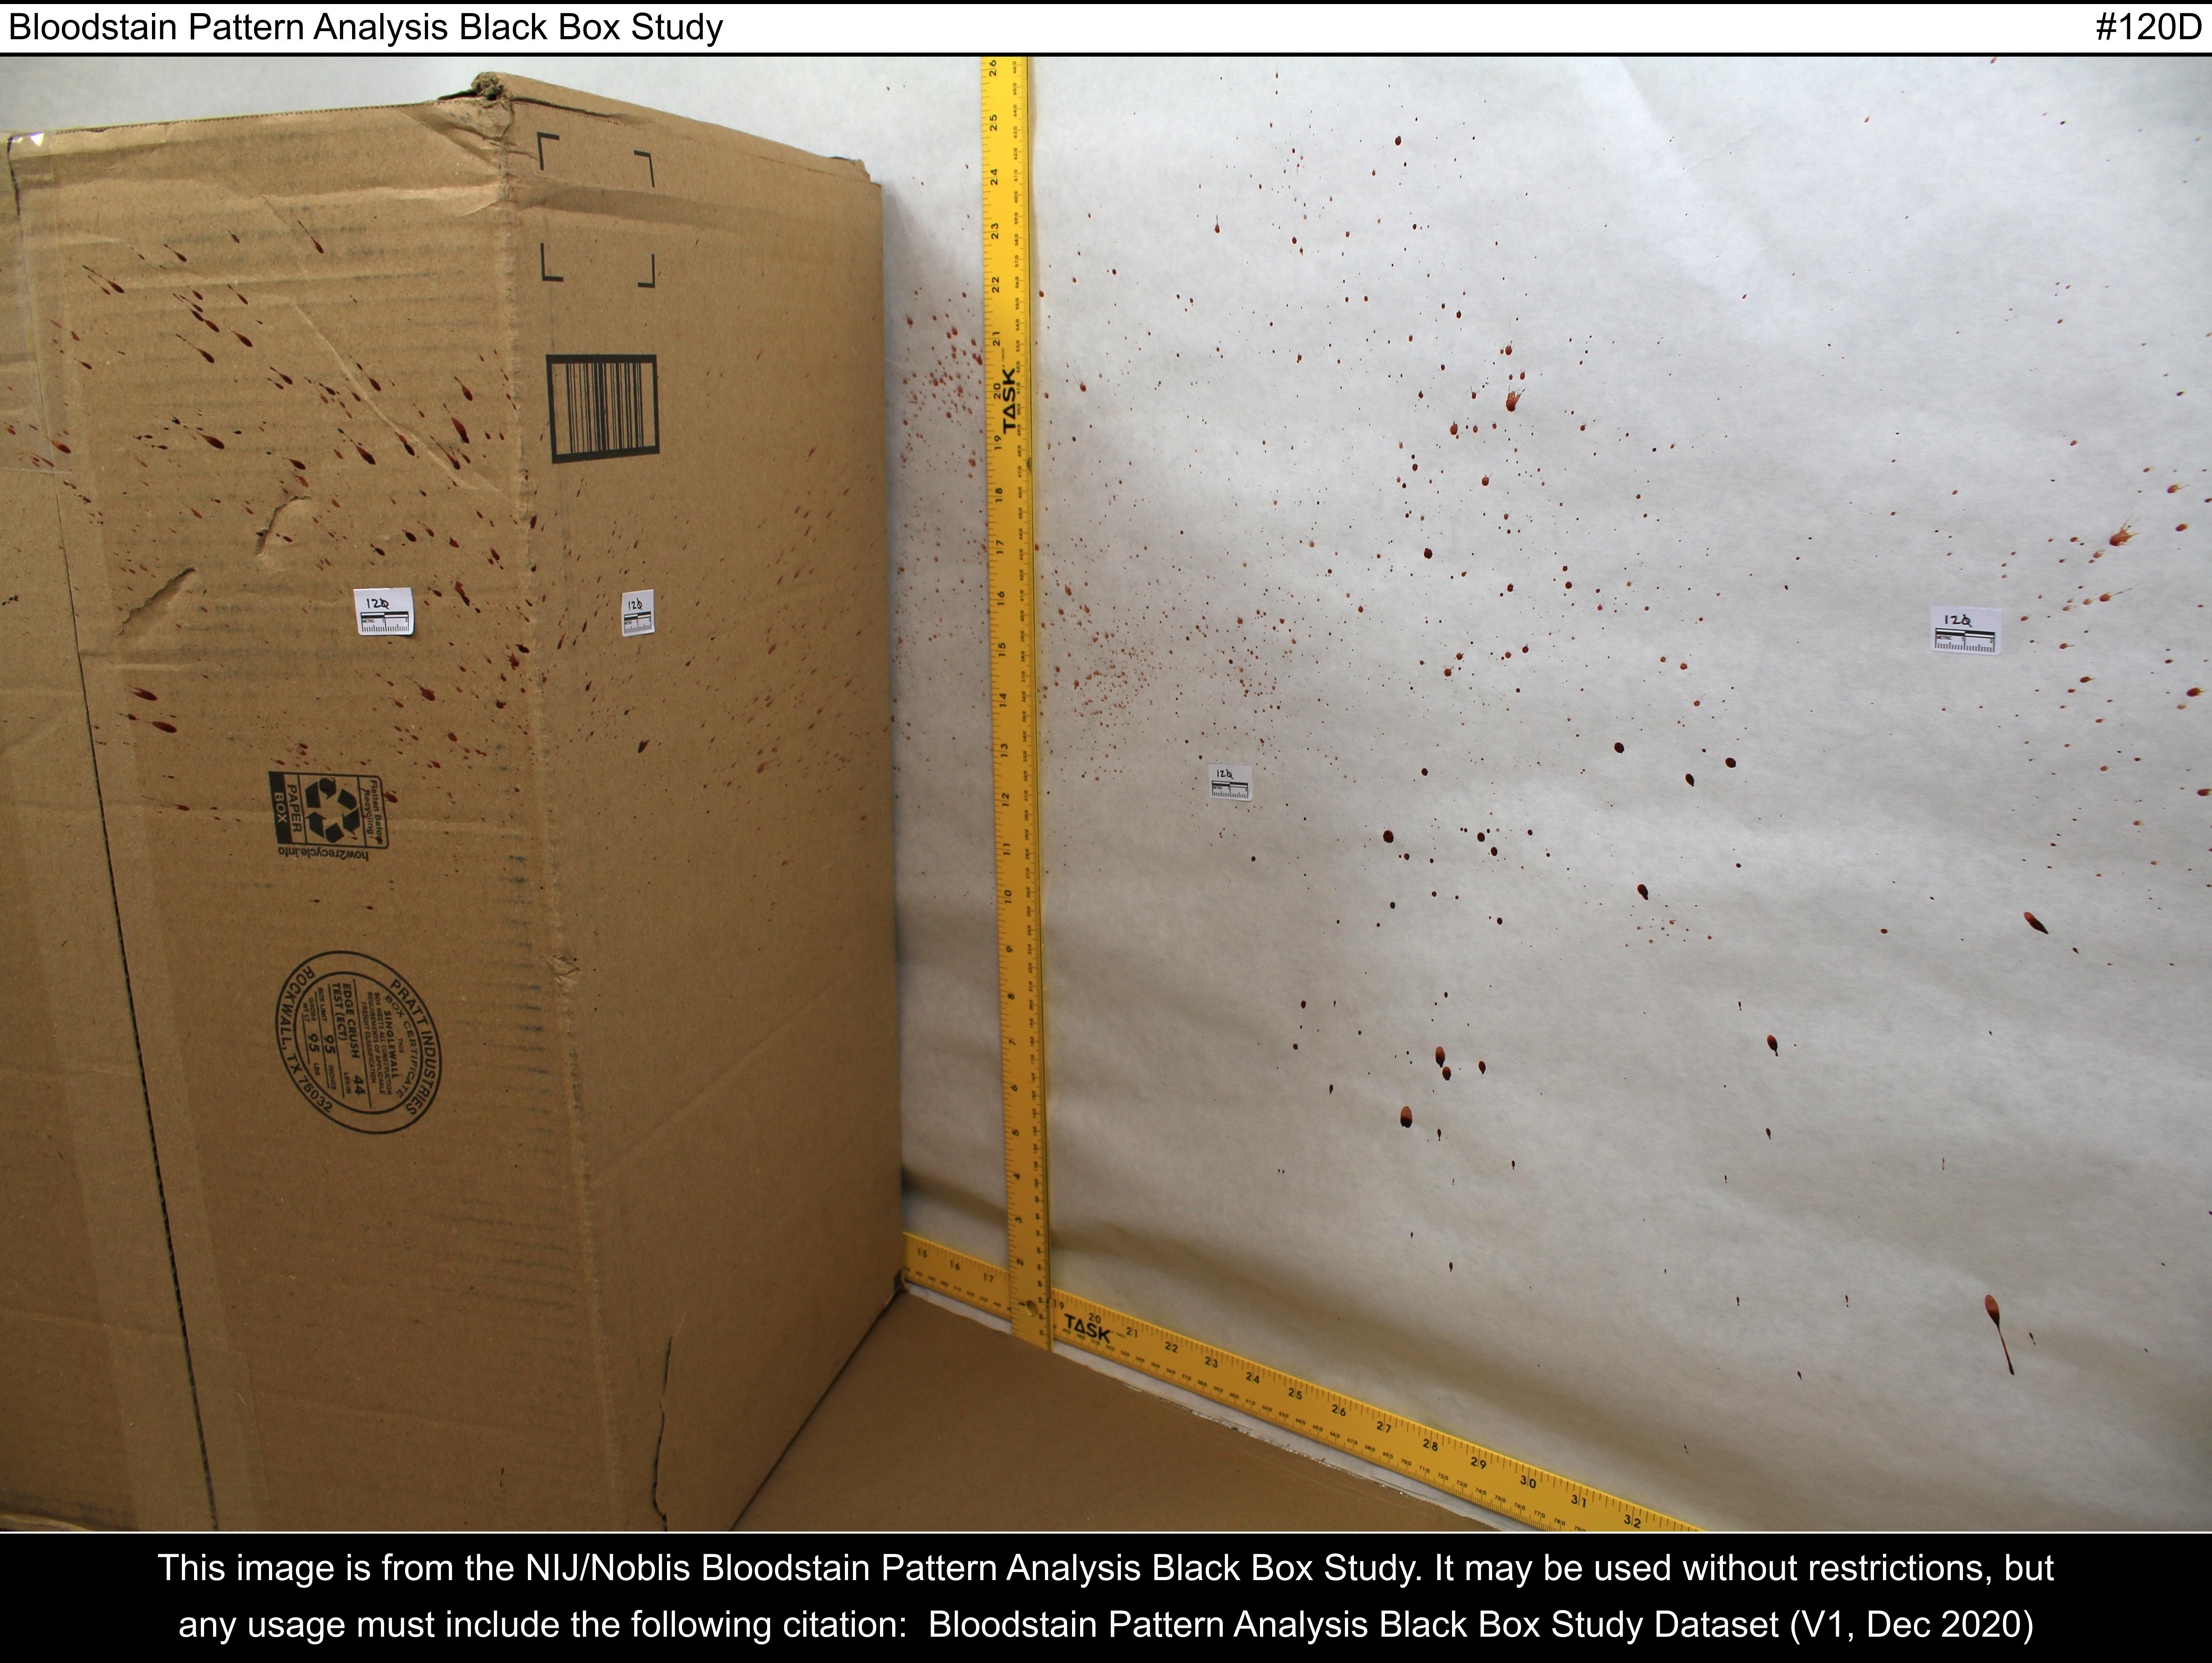Impact: (1046, 54, 2209, 1399), (5, 183, 985, 1183)
